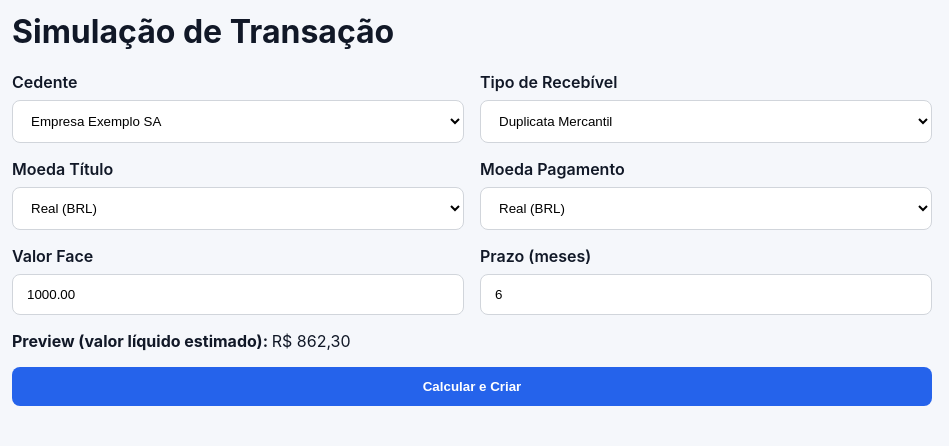
Test: TransacaoPage › shows a field-level error and disables submit when Valor Face is cleared
Expected: the button "Calcular e Criar" is enabled, left=12, top=367, right=932, bottom=406
Clear the field labelled "Valor Face". click: (238, 295)
box: left=12, top=274, right=464, bottom=315
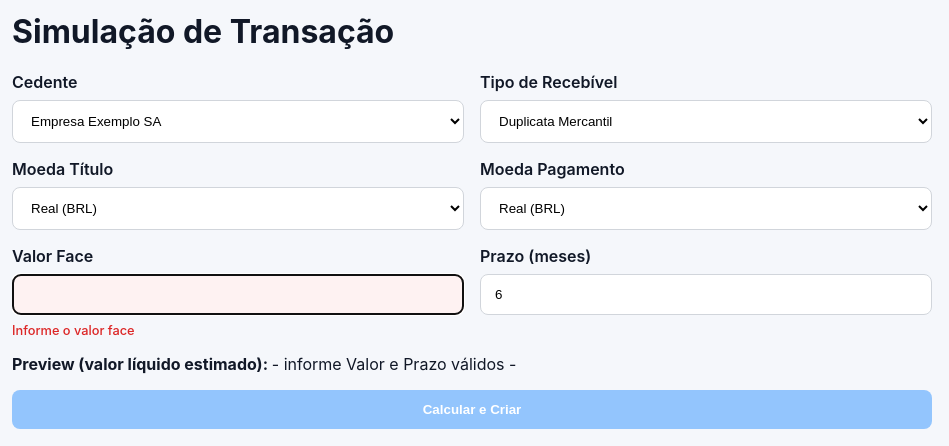
Press Tab
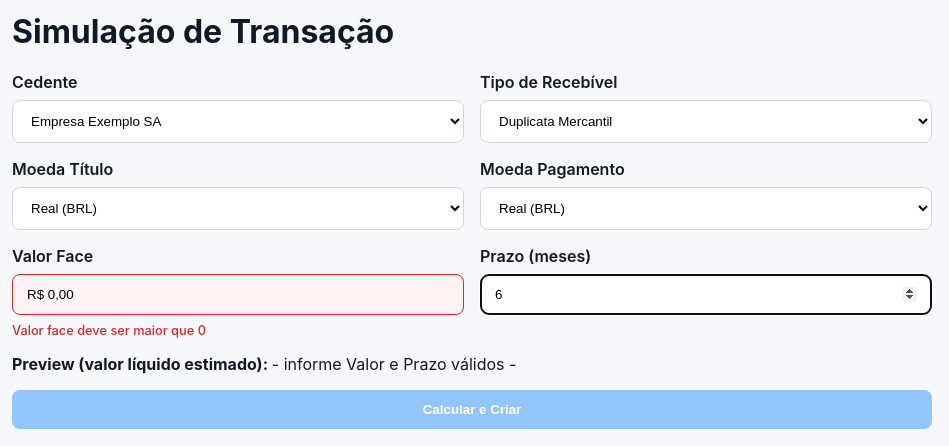
Now the button "Calcular e Criar" is disabled, box left=12, top=390, right=932, bottom=429
Now the text "Valor face deve ser maior que 0" is shown, box left=12, top=323, right=206, bottom=338
